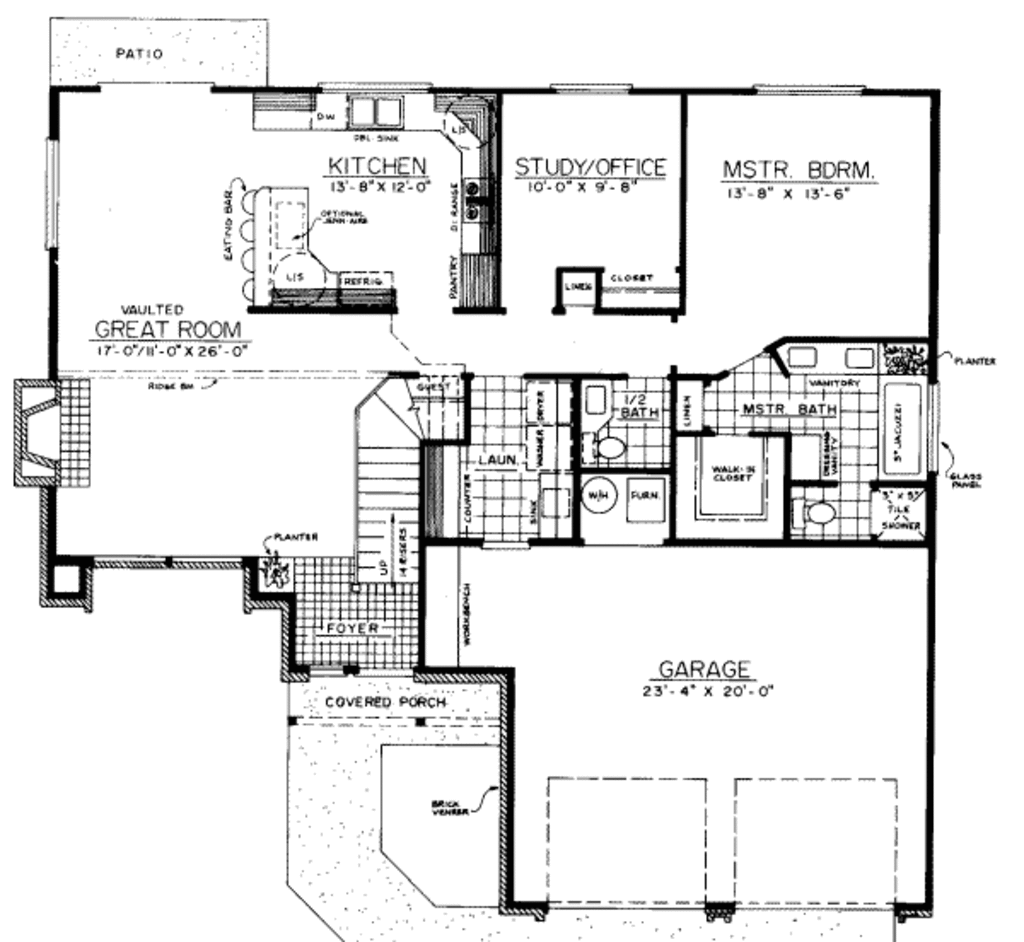kitchen_bar: (238, 178, 340, 313)
large_sink: (782, 488, 839, 545), (575, 428, 638, 470)
stairs: (343, 365, 471, 603)
twin_sink: (346, 91, 414, 137)
window: (741, 79, 870, 99), (43, 133, 61, 251), (928, 374, 944, 477), (547, 81, 633, 98)
